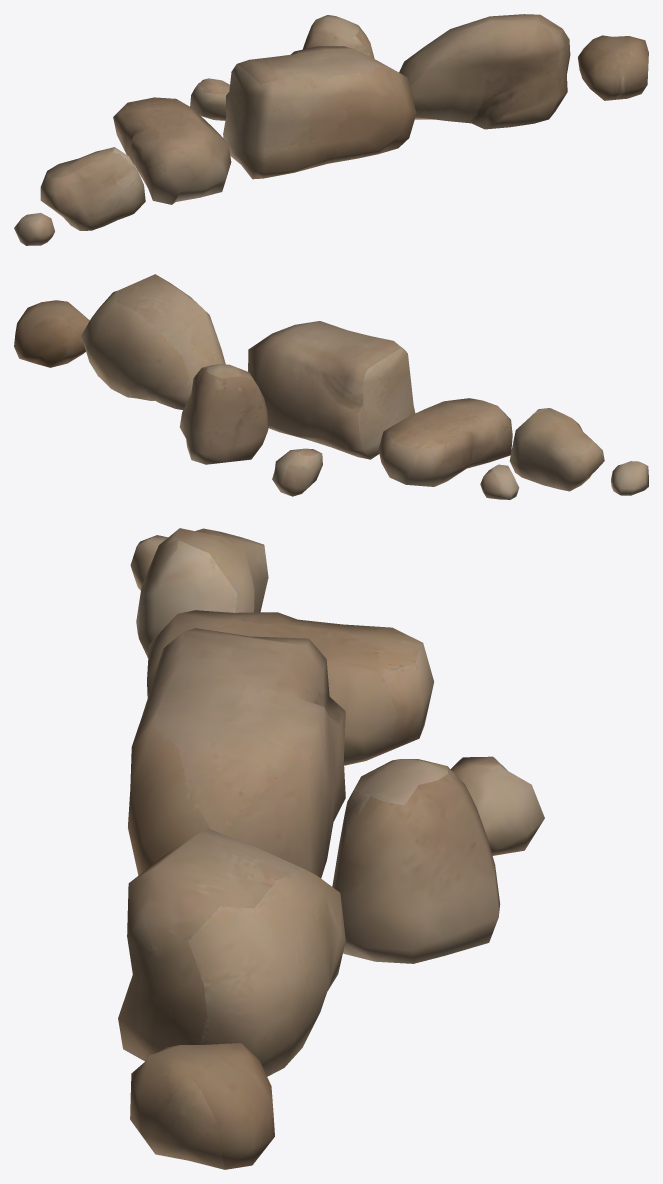
3 views of the same model, one above another, from view 1: azimuth 30°, elevation 25°; view 2: azimuth 150°, elevation 25°; view 3: azimuth 270°, elevation 25° (orthographic). The views are drawn at different scales.
Visible parts, largest first — view 1: body0_model0_lod0_mesh0; view 2: body0_model0_lod0_mesh0; view 3: body0_model0_lod0_mesh0.
Boxes of the visible parts, x1=… form: body0_model0_lod0_mesh0: x1=14, y1=14, x2=648, y2=245; body0_model0_lod0_mesh0: x1=14, y1=274, x2=648, y2=499; body0_model0_lod0_mesh0: x1=118, y1=528, x2=544, y2=1169.
Bounding box in the file's own units: 146 × 22.82 × 43.65.
1 material, 1 textured.
